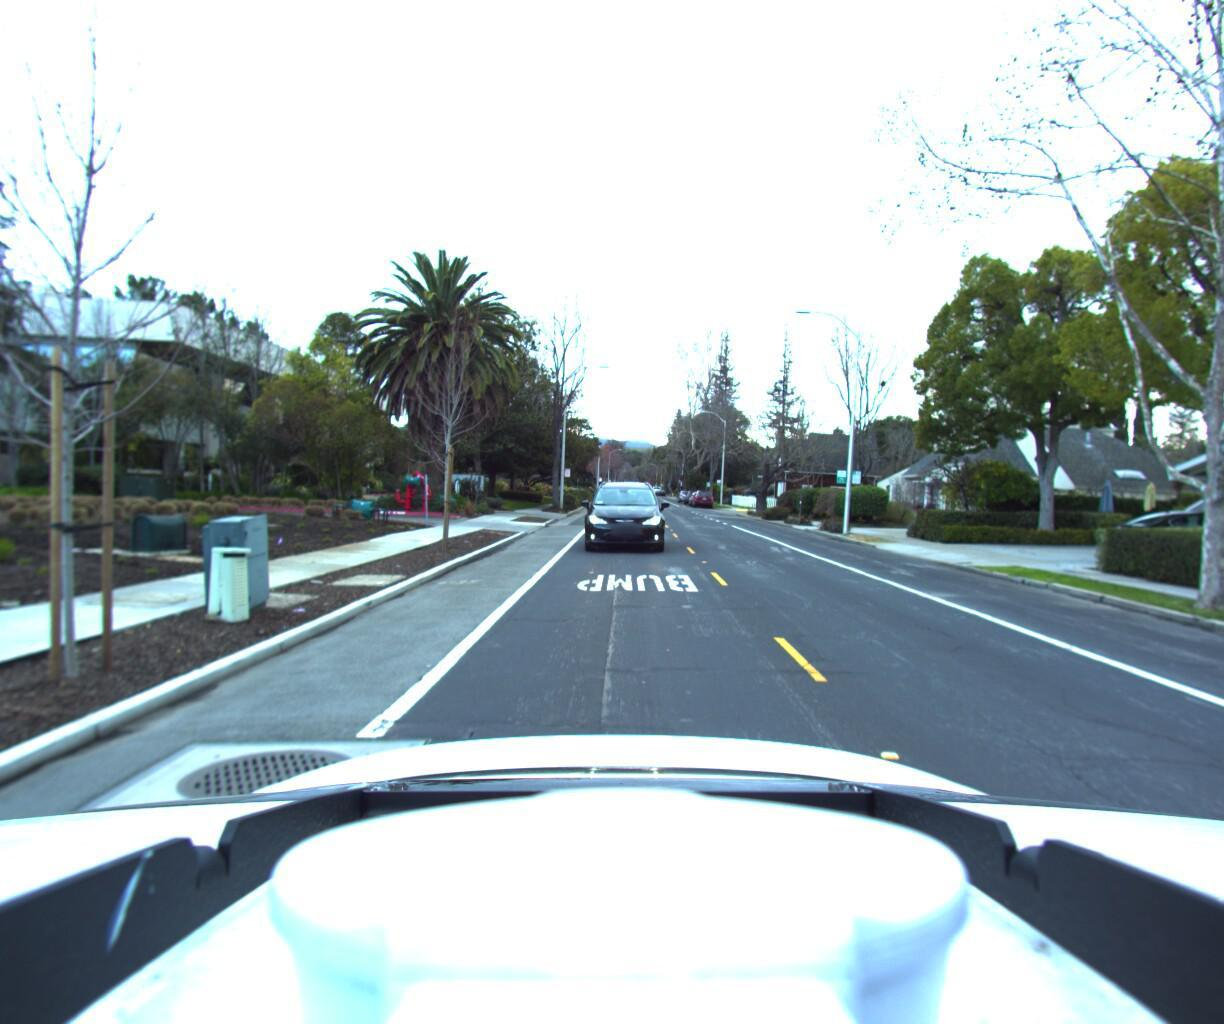car: (1093, 499, 1224, 567), (582, 477, 666, 557), (691, 489, 713, 509)
